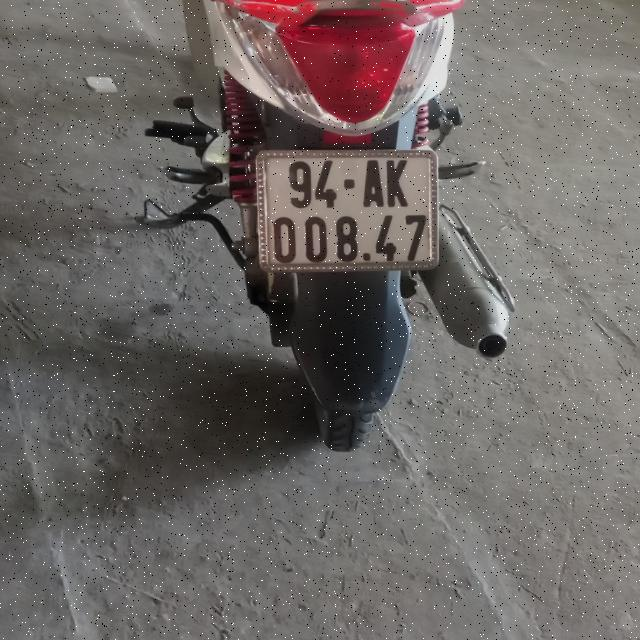0: (305, 216, 329, 263), (274, 216, 296, 264)
4: (316, 160, 338, 208), (376, 215, 397, 263)
7: (404, 214, 426, 262)
8: (337, 215, 358, 263)
9: (288, 162, 313, 208)
A: (364, 160, 384, 209)
K: (387, 158, 409, 207)
